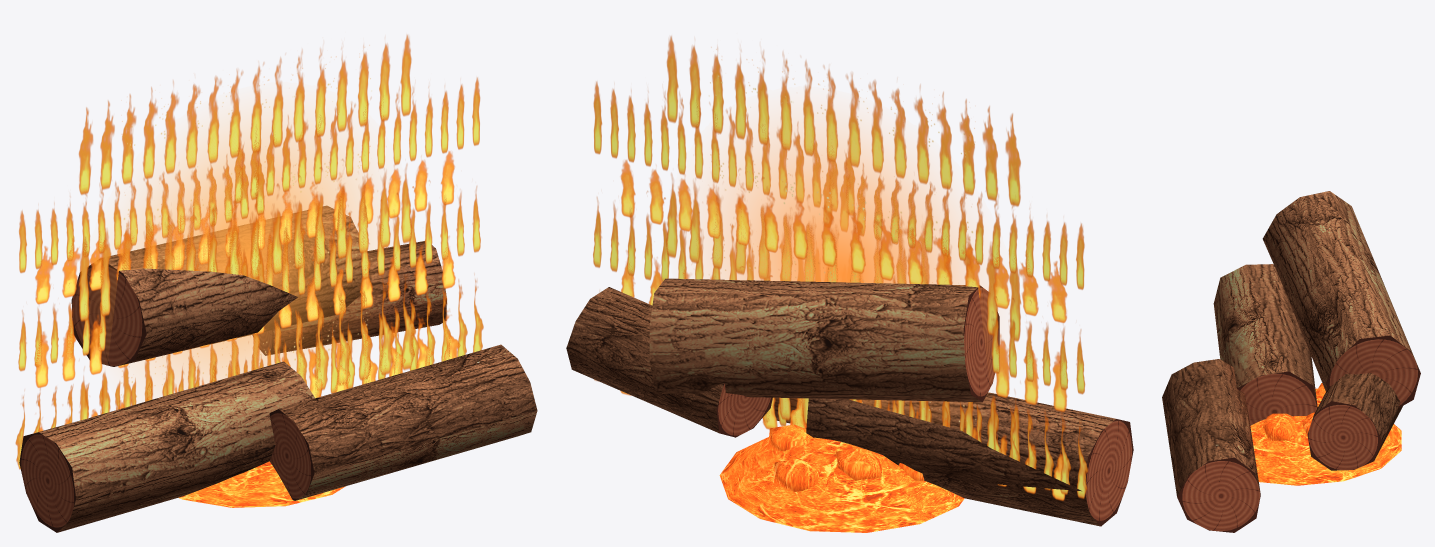
The model's file is mm8_deco_campfire.glb.
The picture shows the model from 3 angles, left to right: view 1: azimuth 30°, elevation 25°; view 2: azimuth 150°, elevation 25°; view 3: azimuth 270°, elevation 25°; orthographic projection. The views are drawn at different scales.
Parts seen in each view (by area): view 1: Campfire; view 2: Campfire; view 3: Campfire.
Part boxes in pixels (<box>): Campfire: <box>15,35,537,532</box>; Campfire: <box>566,36,1133,532</box>; Campfire: <box>1162,191,1420,532</box>.
Size of the model in its own units: 0.7711 by 0.6248 by 0.4156.
7 materials, 7 textured.
